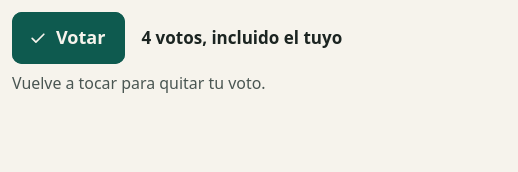
<VoteButton> › quitar el voto usa DELETE
Click the button "Votar" at (69, 38), box x1=12 y1=12 x2=126 y2=64
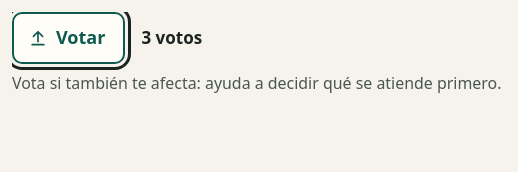
Now the text "3 votos" is shown, box x1=142 y1=25 x2=202 y2=51
